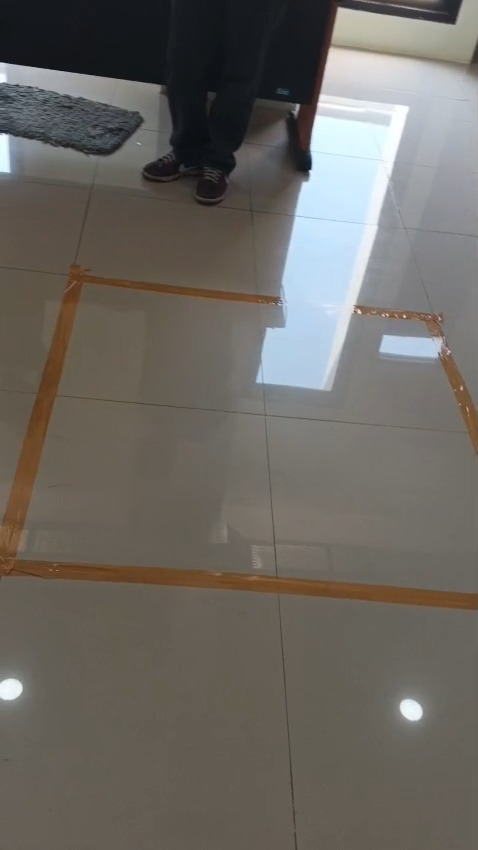floor marking: (0, 265, 477, 610), (352, 305, 477, 452)
